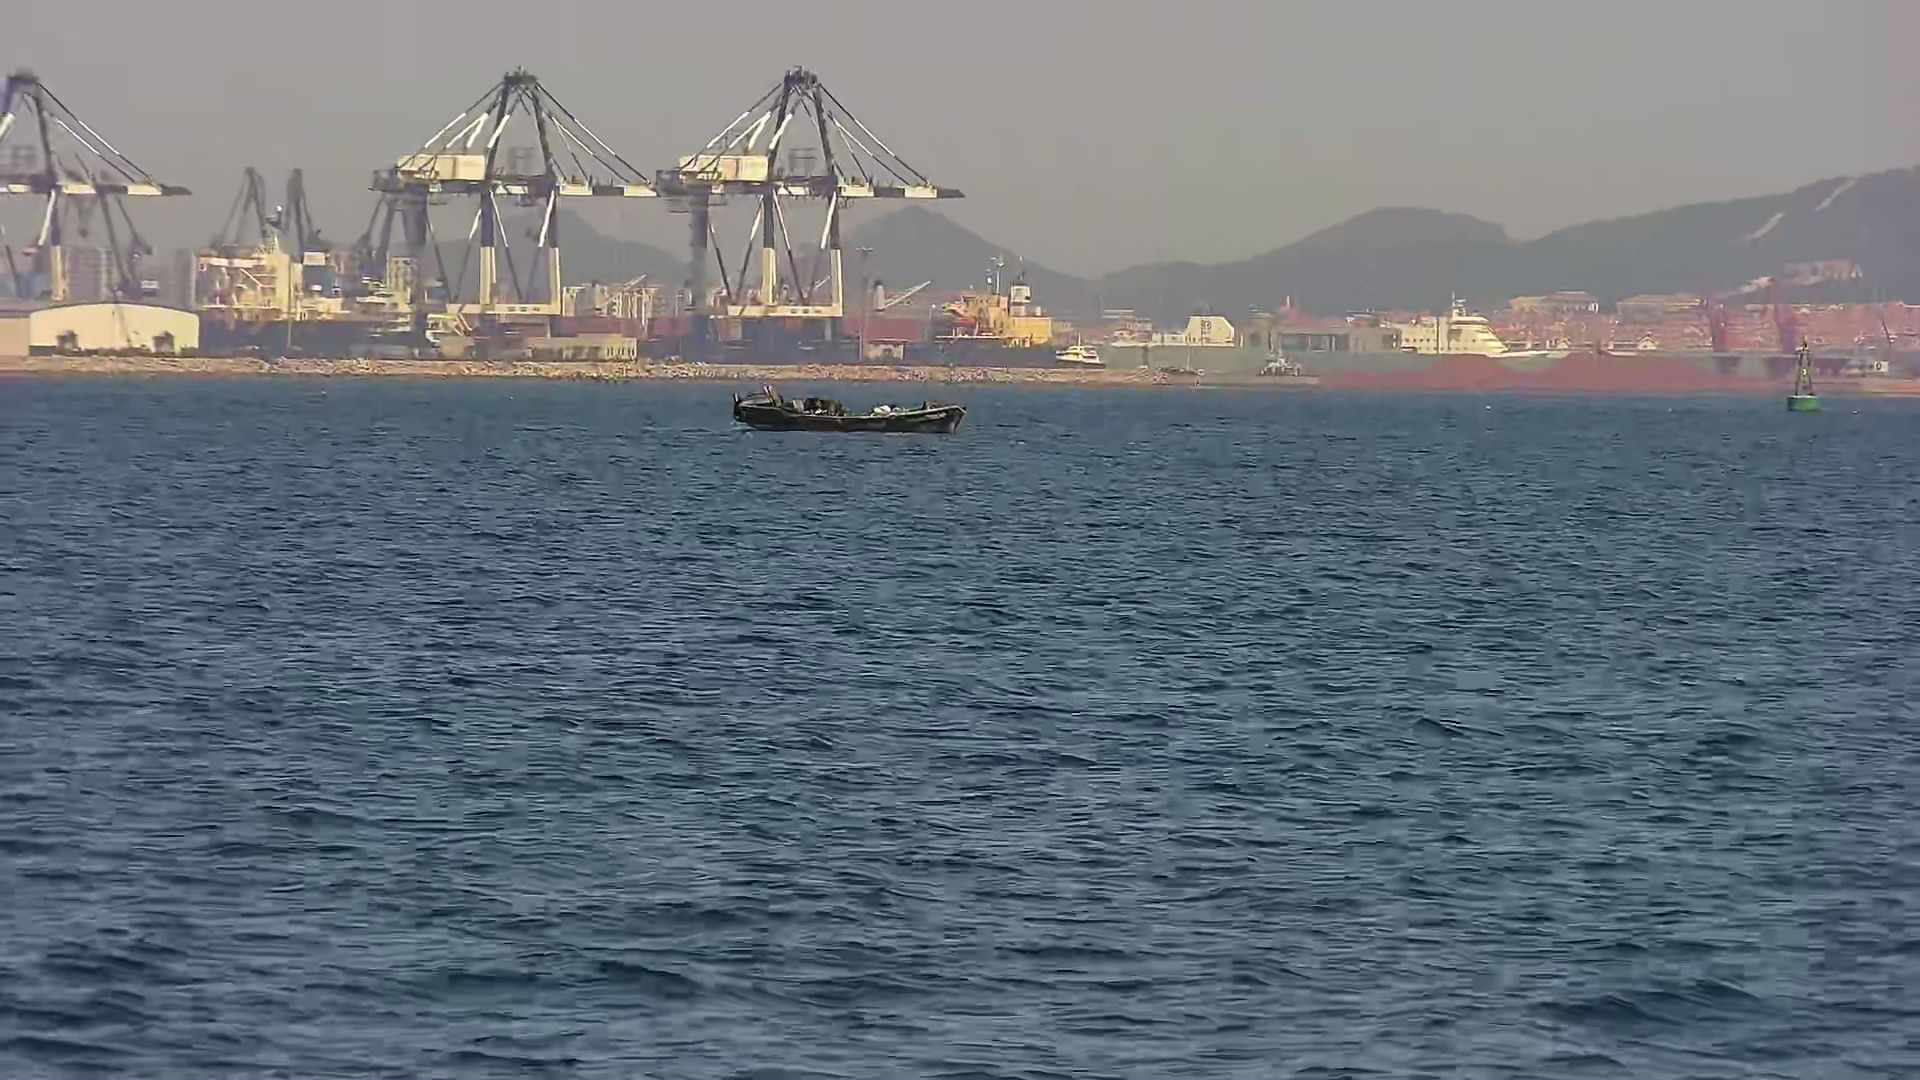boat: (733, 386, 968, 440)
buoy: (1783, 340, 1822, 411)
